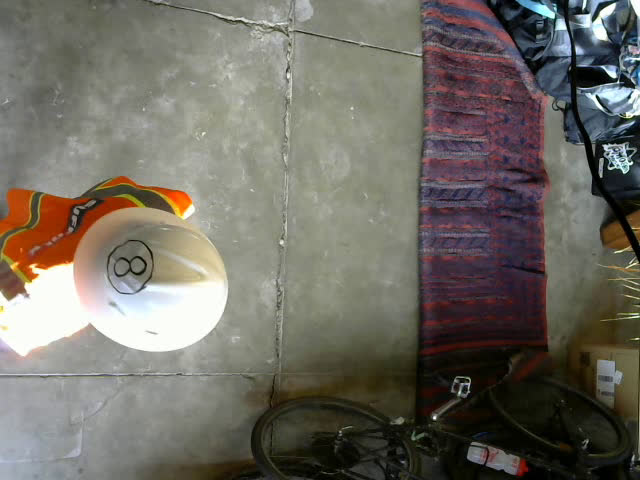eight: (108, 238, 155, 296)
